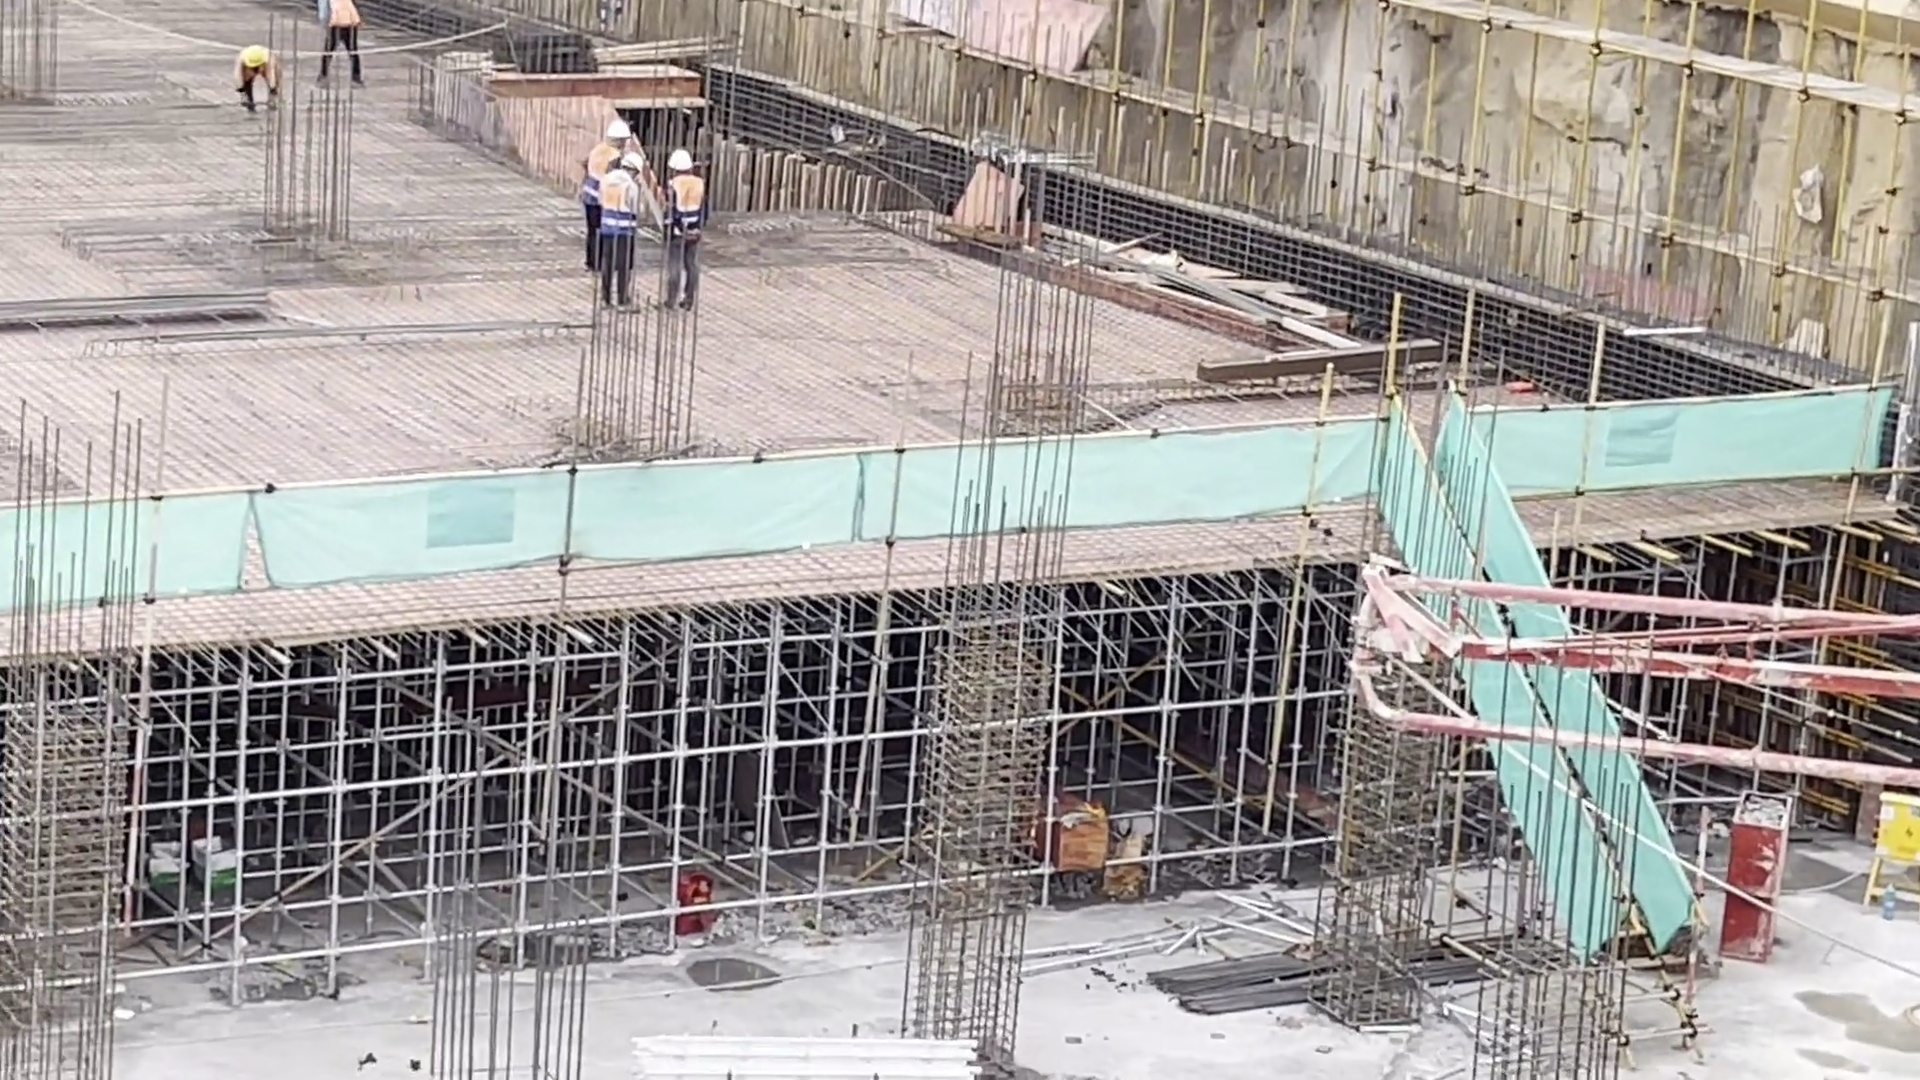ebox: (1854, 790, 1920, 912)
helmet: (668, 150, 691, 174), (245, 44, 266, 69), (618, 153, 645, 173), (609, 121, 626, 142)
person: (600, 147, 649, 319), (665, 143, 706, 318), (580, 119, 628, 266), (310, 1, 371, 95), (226, 41, 285, 119)
rebar: (1148, 909, 1532, 1005)
vest: (603, 174, 641, 234), (668, 175, 705, 234), (585, 149, 617, 203), (324, 1, 359, 30)
